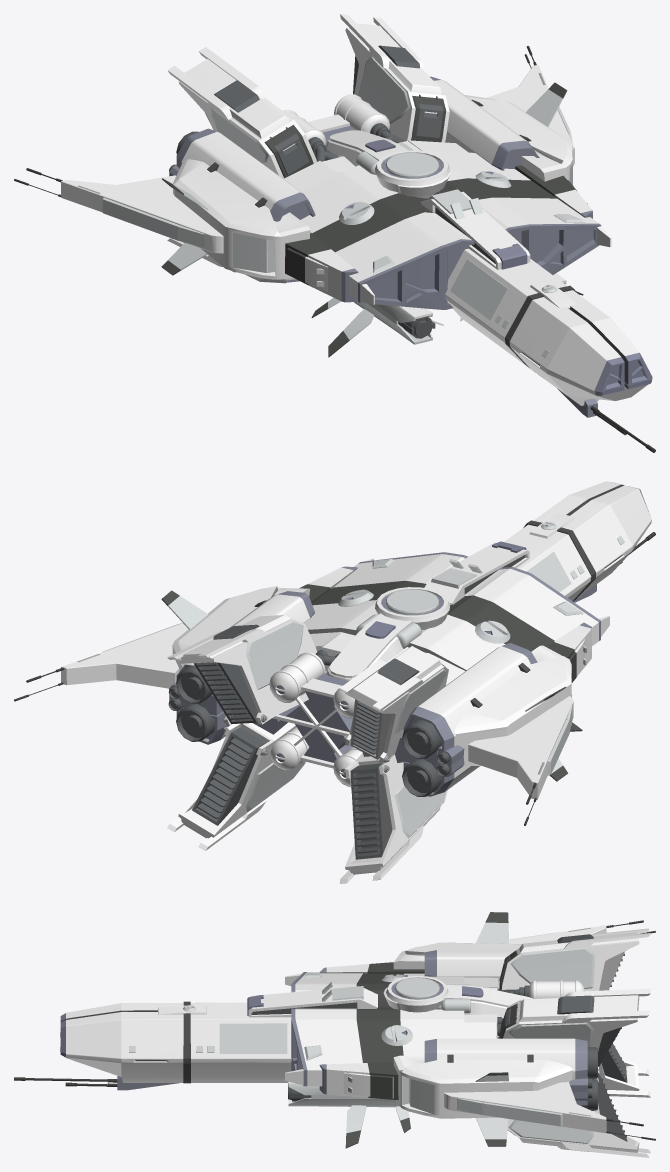
Rendered from Detail_Ship.fbx.
3 views of the same model, one above another, from view 1: azimuth 30°, elevation 25°; view 2: azimuth 150°, elevation 25°; view 3: azimuth 270°, elevation 25° (orthographic). The views are drawn at different scales.
Parts seen in each view (by area): view 1: polySurface108; view 2: polySurface108; view 3: polySurface108.
Boxes of the visible parts, x1=… form: polySurface108: x1=14, y1=14, x2=655, y2=452; polySurface108: x1=14, y1=481, x2=655, y2=883; polySurface108: x1=14, y1=912, x2=655, y2=1157.
Bounding box in the file's own units: 8.05 × 2.94 × 10.45.
